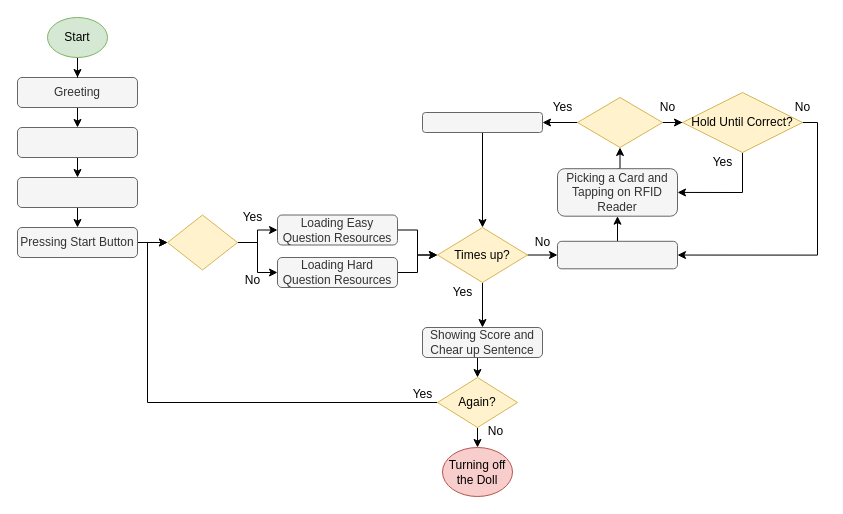
Some shapes in this 843 by 514 pixel diagram are drawn without their labels. The shapes that lost their labels are listed below. From the top down, each one's centre as x and y in pixels, then its label:
pixel 77 142: Explaning the Instruction
pixel 482 122: Updating Score
pixel 619 122: Correct?
pixel 77 192: Distributing Game Card
pixel 202 242: Easy?
pixel 617 254: Asking New Question
